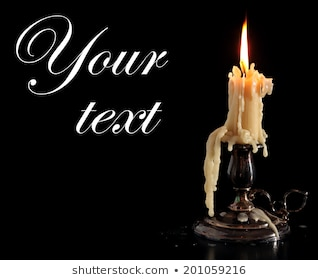Fire: (237, 14, 252, 70)
